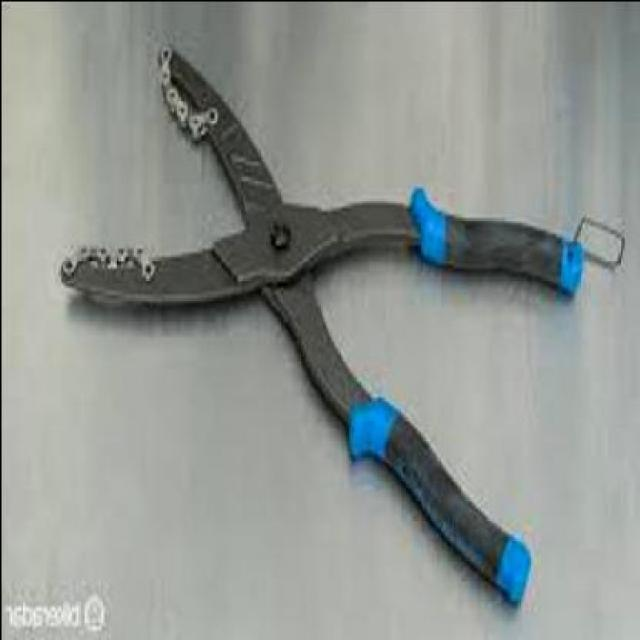pliers: (43, 28, 640, 606)
